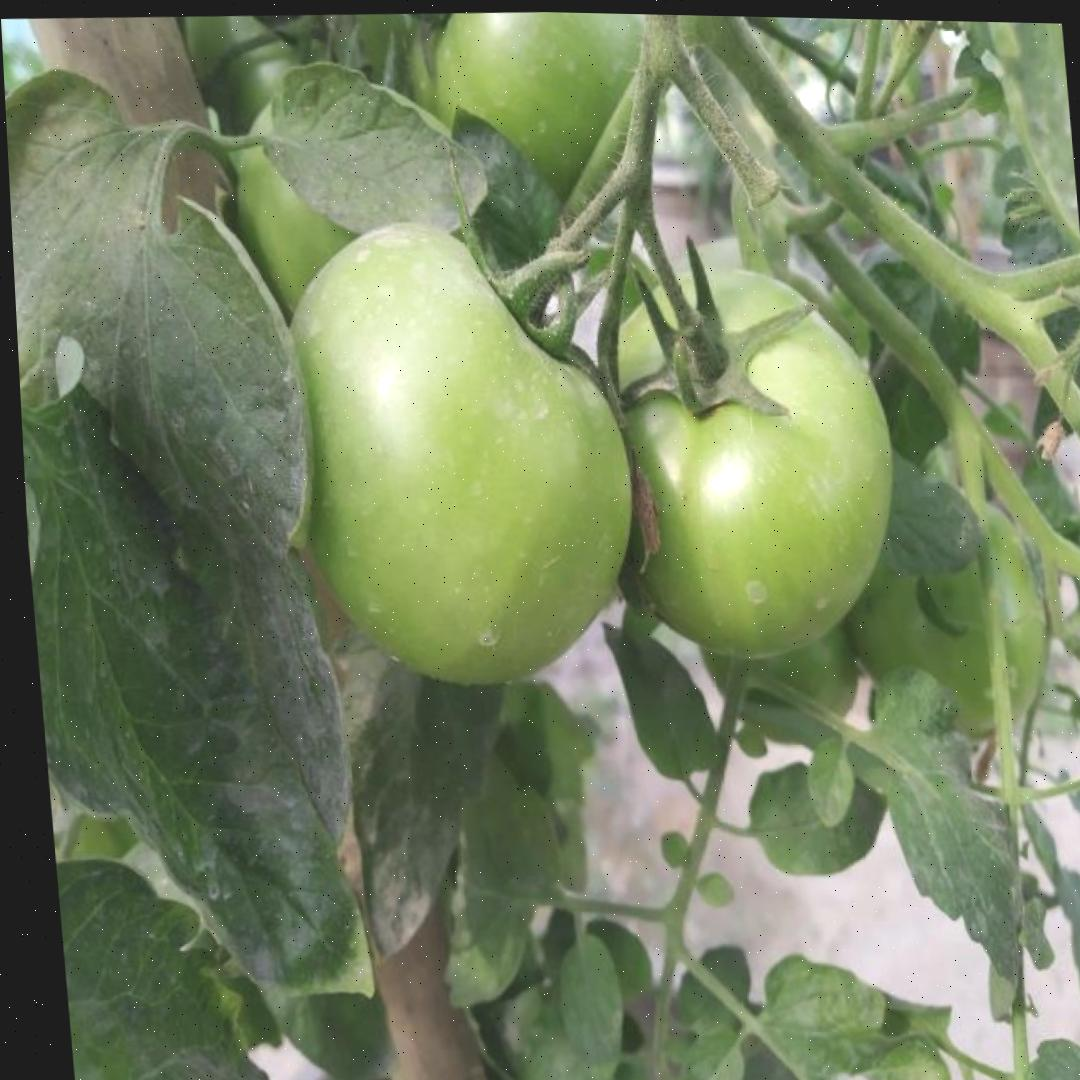mentah: (261, 208, 650, 700), (567, 254, 913, 668)
